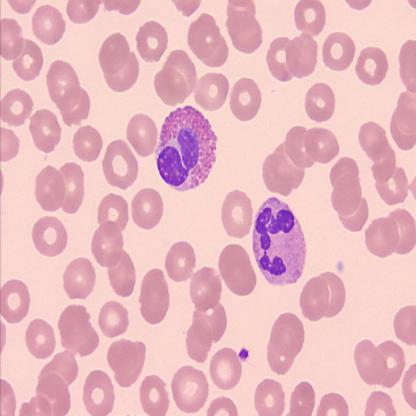Eosinophil: (156, 104, 216, 192)
